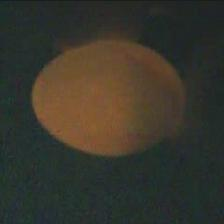fertile: (31, 36, 191, 159)
